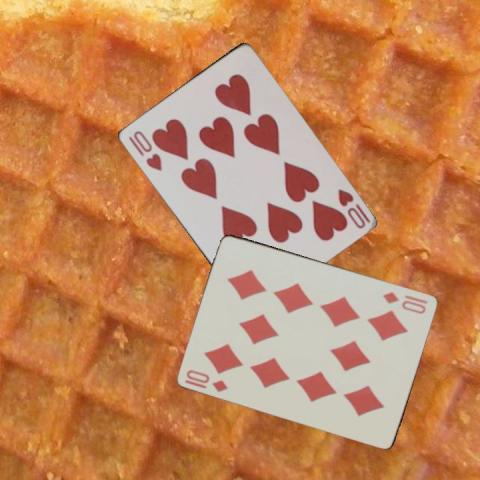10d: (379, 289, 430, 315), (183, 366, 230, 393)
10h: (125, 127, 163, 173), (334, 185, 371, 231)
